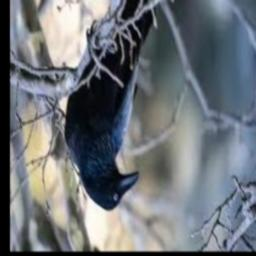Crow: (64, 0, 157, 211)
